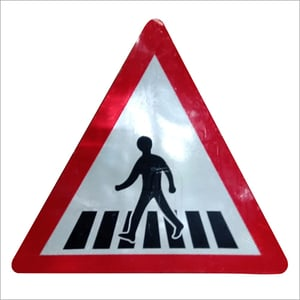pedestrian: (28, 51, 267, 284)
